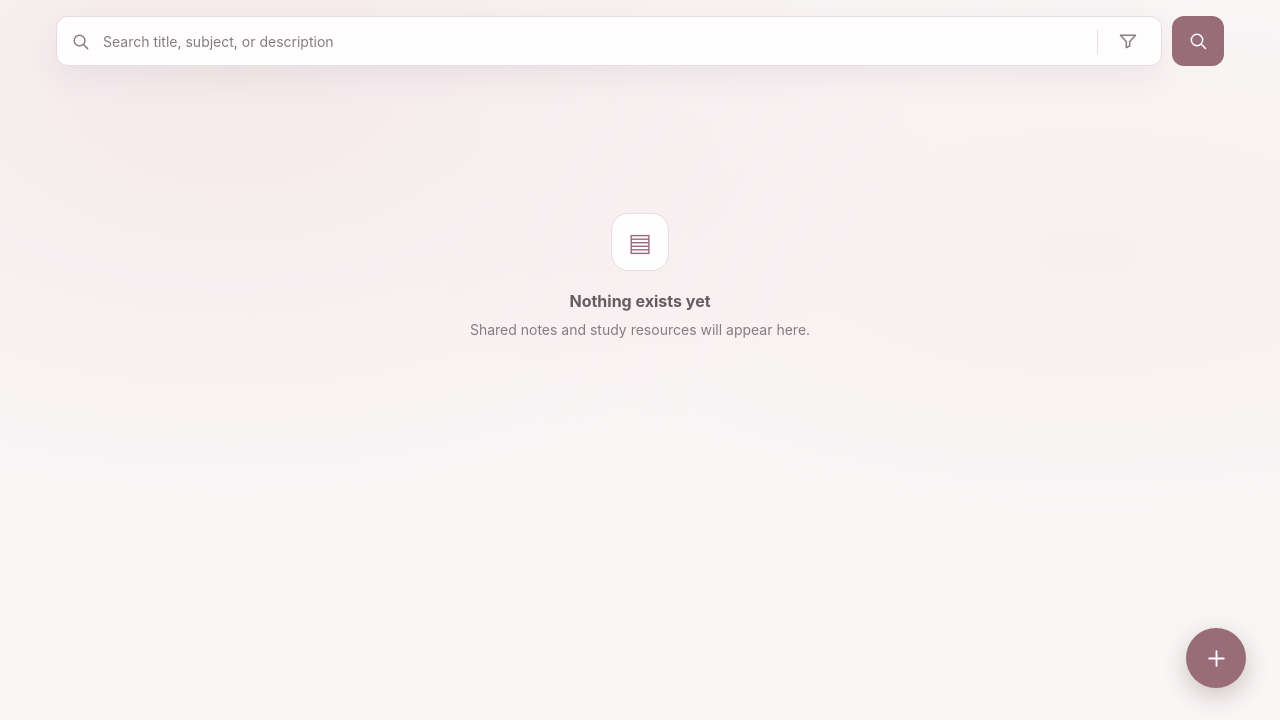
Test case: retries a failed next page with the same search and cursor, keeping existing results
The width and height of the screenshot is (1280, 720).
Check: the text "Nothing exists yet" is shown, box [570, 289, 711, 314]
Step 1. Type "Alpha" into the field named "Search study materials" → (594, 41), box [101, 18, 1086, 64]
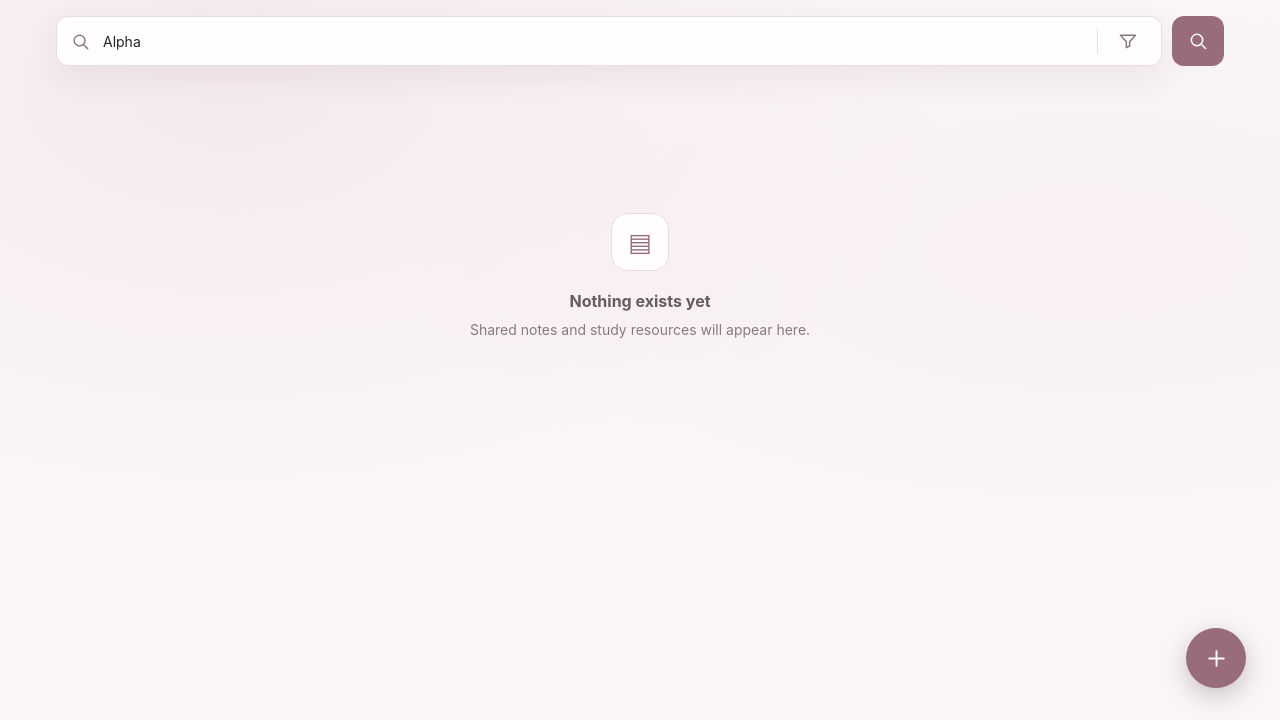
Step 2. Submit the form named "Search", box [56, 16, 1224, 66]
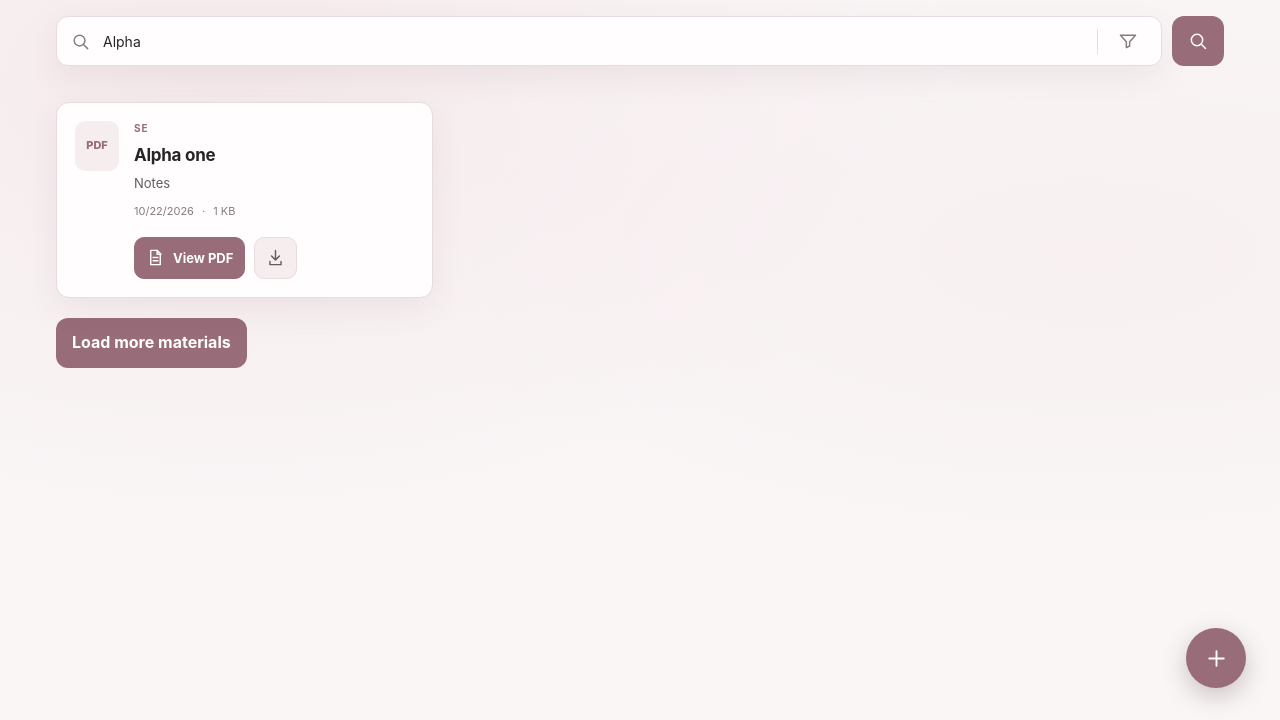
Step 3. Click the button "Load more materials" → (151, 343), box [56, 318, 247, 368]
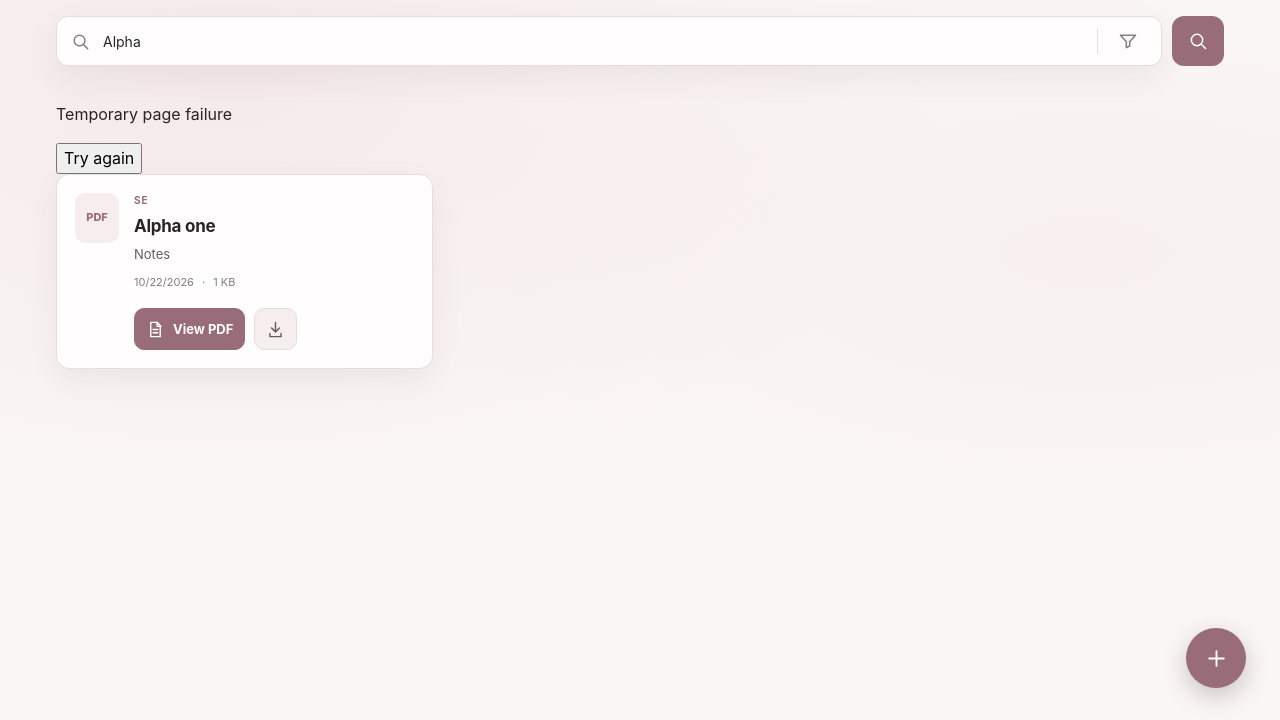
Check: the heading "Alpha one" is shown, box [134, 216, 215, 236]
Check: the message shows "Temporary page failure", box [56, 104, 232, 124]
Step 4. Click the button "Try again" → (99, 158), box [56, 143, 142, 174]
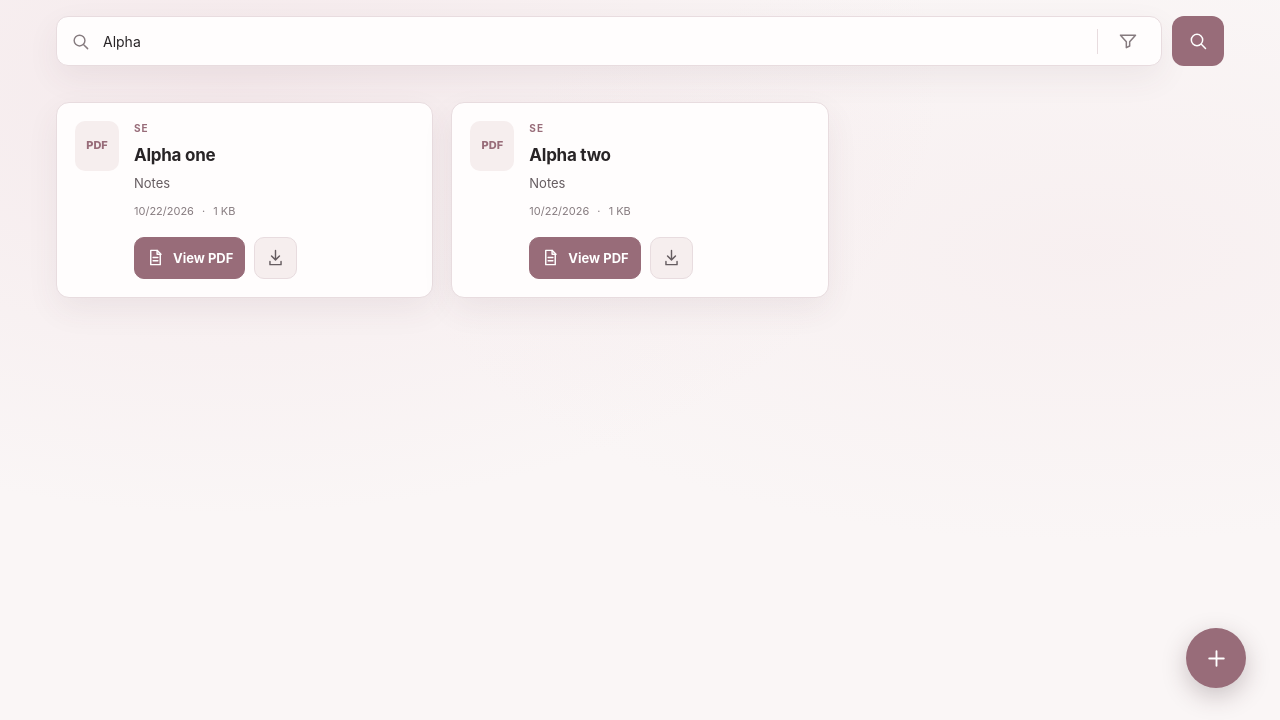
Check: the heading "Alpha one" is shown, box [134, 144, 215, 164]
Check: the heading "Alpha two" is shown, box [529, 144, 611, 164]
Check: the message "Temporary page failure Try again" is gone
